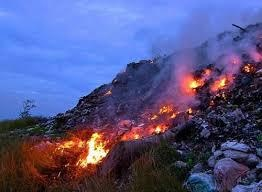fire: (59, 128, 109, 166), (182, 68, 228, 92)
